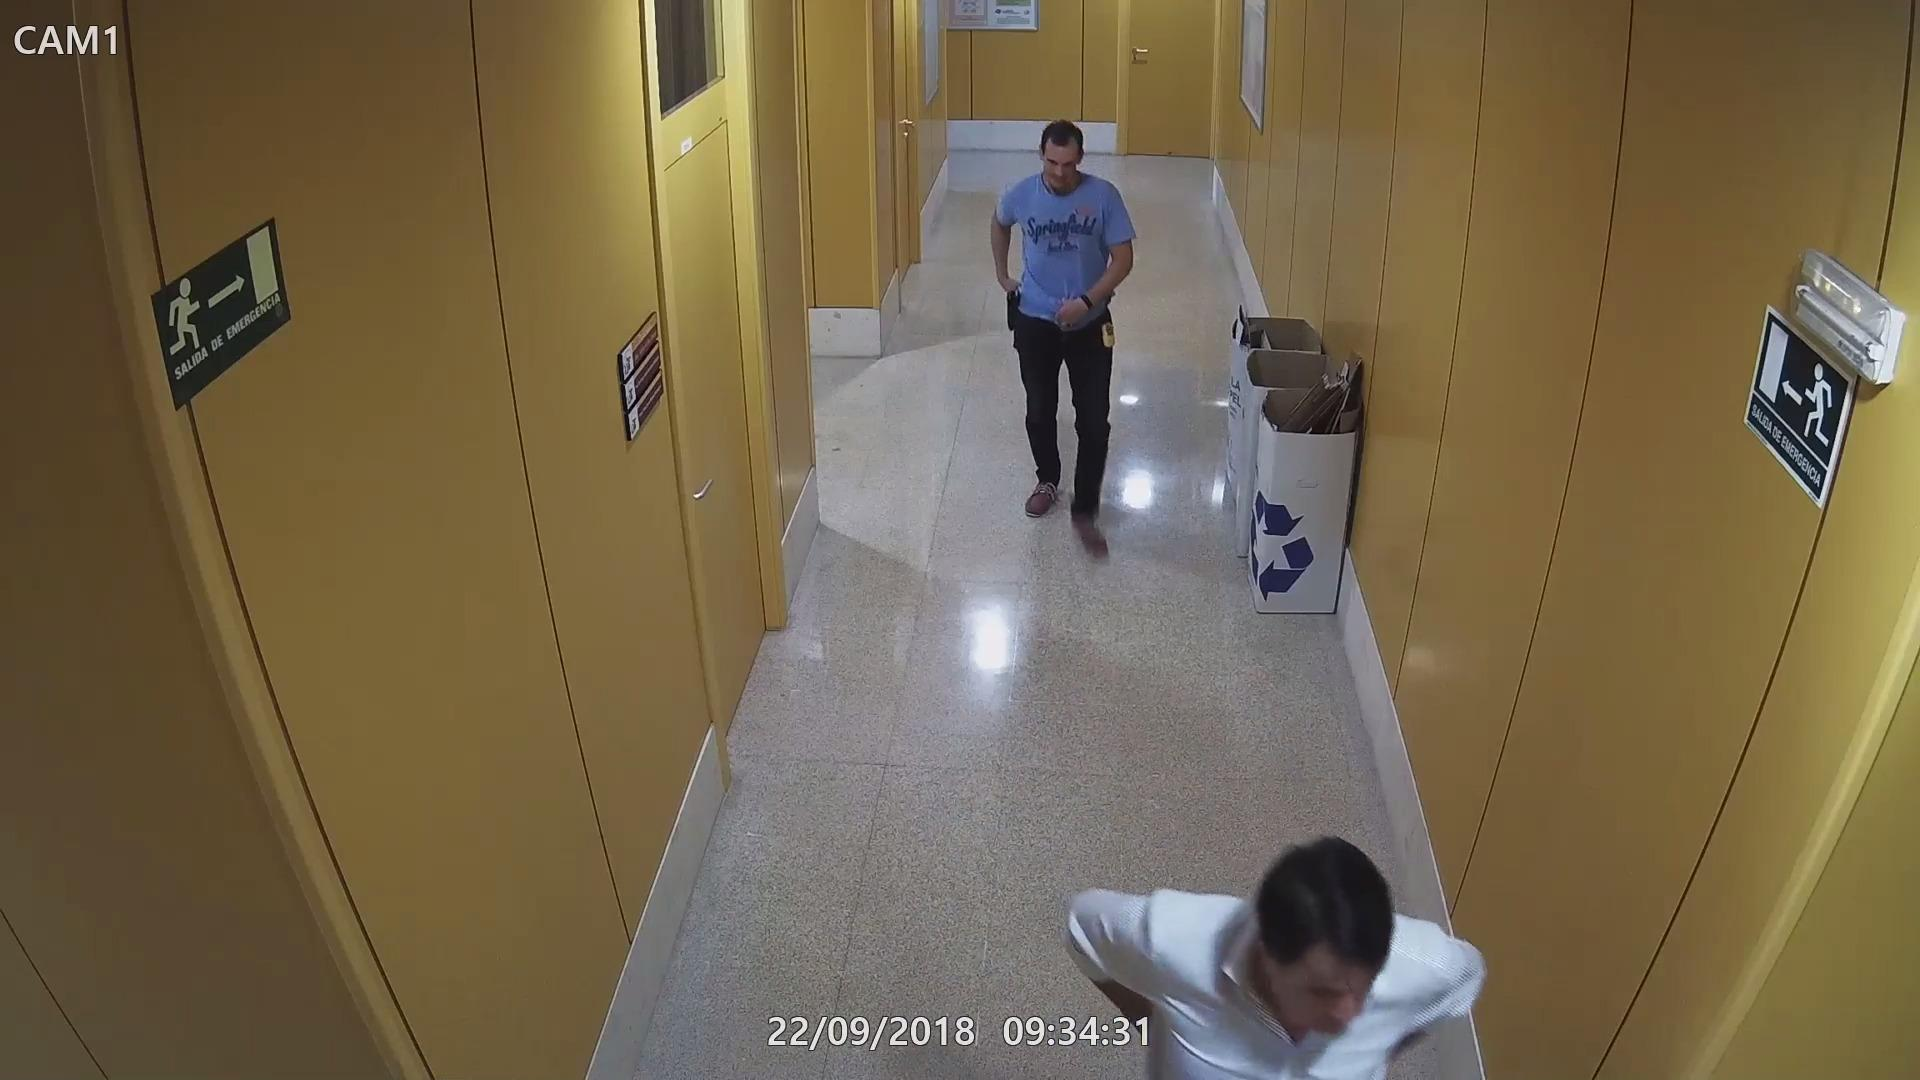Handgun: (998, 286, 1025, 335)
